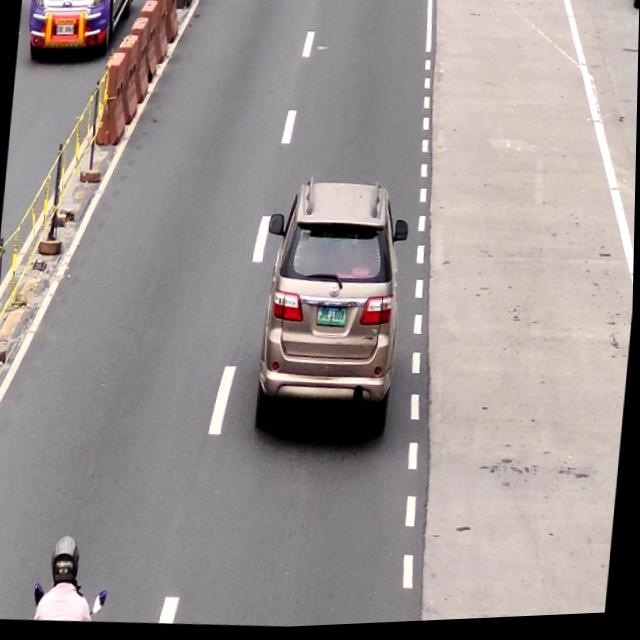Car: (258, 180, 409, 438)
License-Plate: (314, 305, 351, 330)
Motorcycle: (34, 536, 96, 624)
